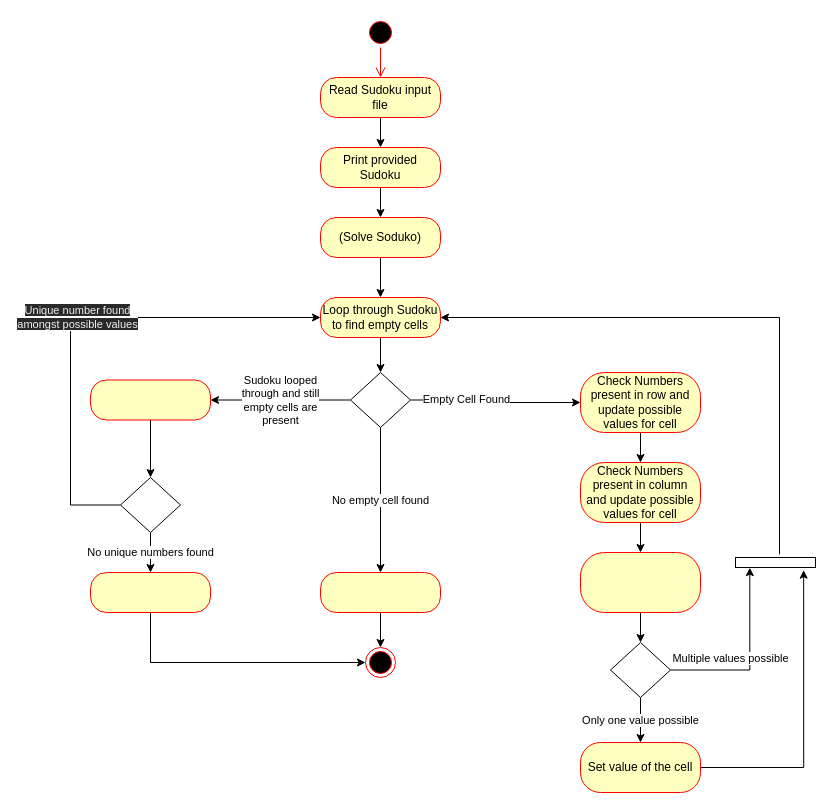
This 833x810 diagram has some shape labels left out. The shapes that lost their labels are listed below. From the top down, each one's centre as x and y in pixels, then its label:
At [150,399]: "Find Unique Numbers".
At [150,592]: "Print unsolved Soduko".
At [380,592]: "Print solved Soduko".
At [640,582]: "Check Numbers present in box and update possible values for cell".
